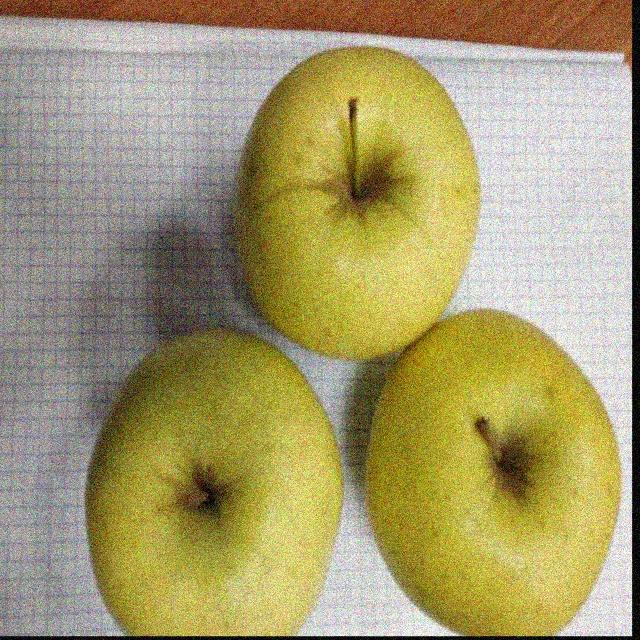green apple: (366, 307, 623, 636), (81, 330, 344, 636), (233, 45, 482, 366)
